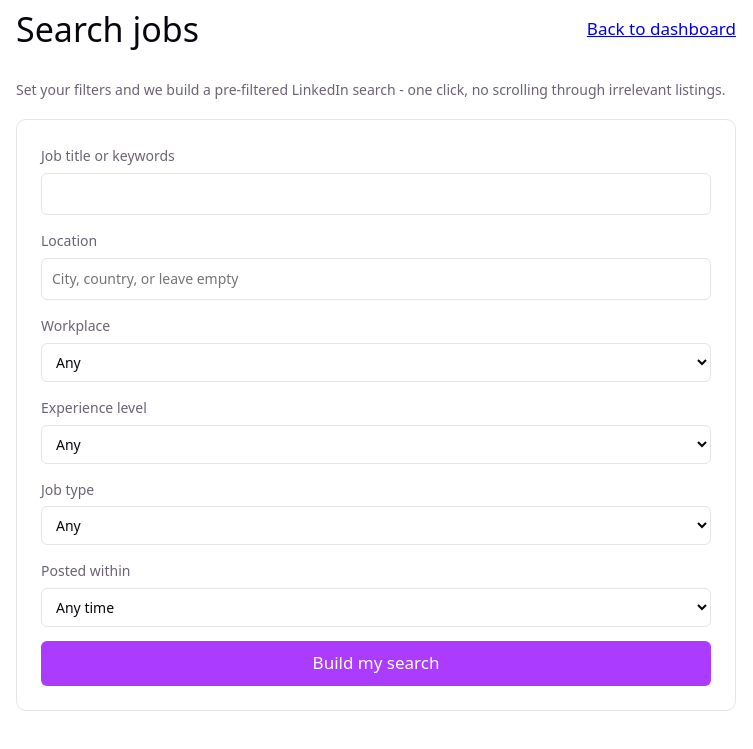
Test: job search › surfaces API errors
Step 1. Type "x" into the field labelled "Job title or keywords" → (376, 194), box [41,172,711,215]
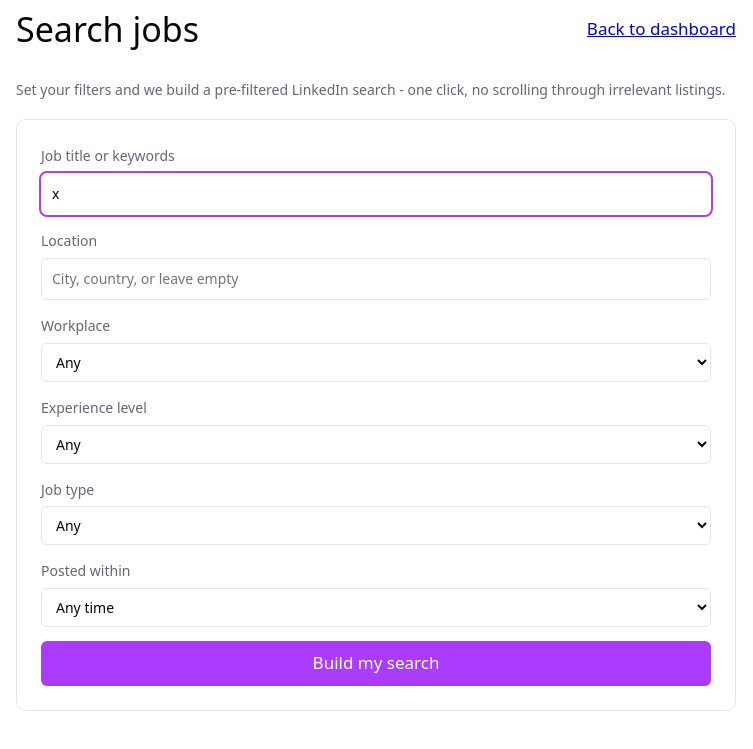
Step 2. Click the button "Build my search" → (376, 663), box [41,641,711,686]
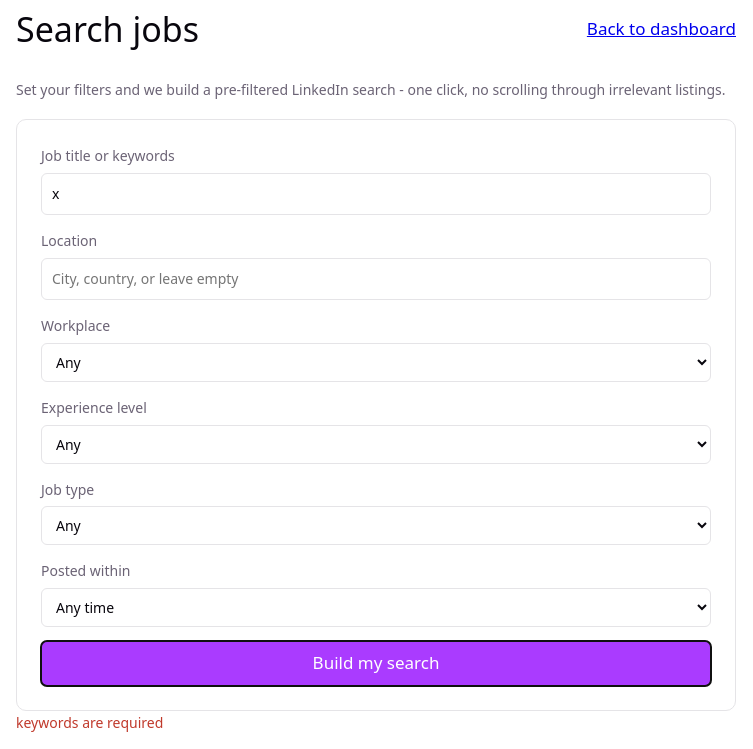
expect the message reads "keywords are required": met, box [16,713,163,732]
